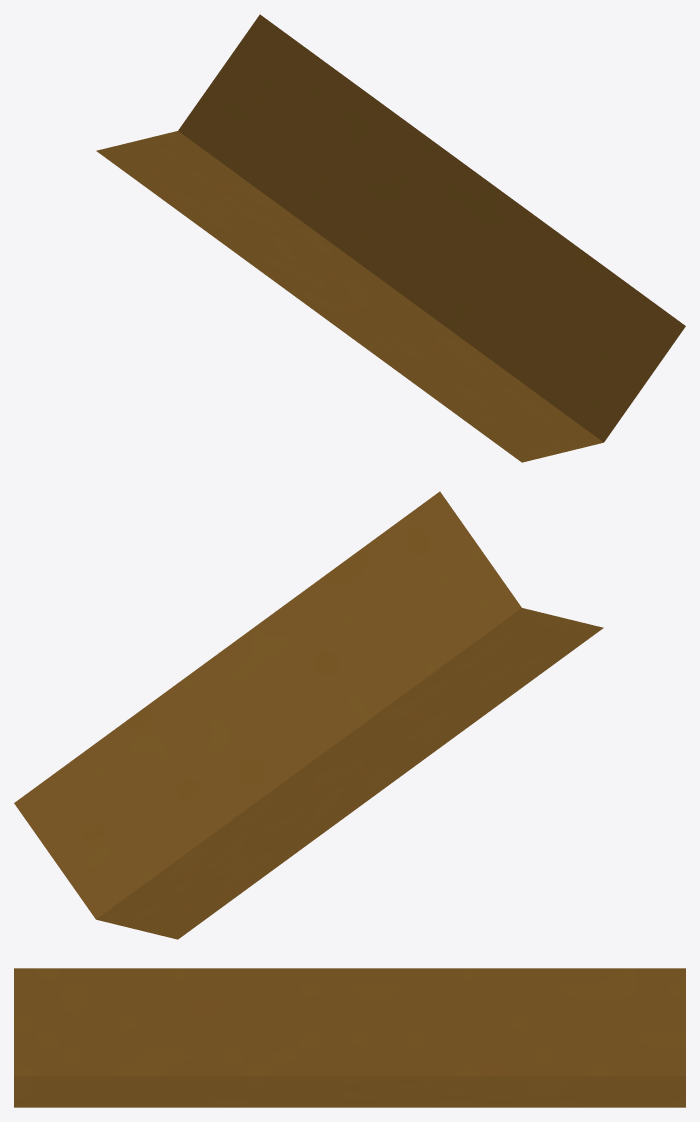
Rendered from trench2.glb.
3 views of the same model, one above another, from view 1: azimuth 30°, elevation 25°; view 2: azimuth 150°, elevation 25°; view 3: azimuth 270°, elevation 25° (orthographic). The views are drawn at different scales.
Parts seen in each view (by area): view 1: Trench2; view 2: Trench2; view 3: Trench2.
Part boxes in pixels (left/top/right/bottom): Trench2: left=96, top=14, right=685, bottom=462; Trench2: left=14, top=491, right=603, bottom=939; Trench2: left=14, top=968, right=685, bottom=1107.
Bounding box in the file's own units: 0.6667 × 0.25 × 2.
Materials: 1 (1 with a texture image).
